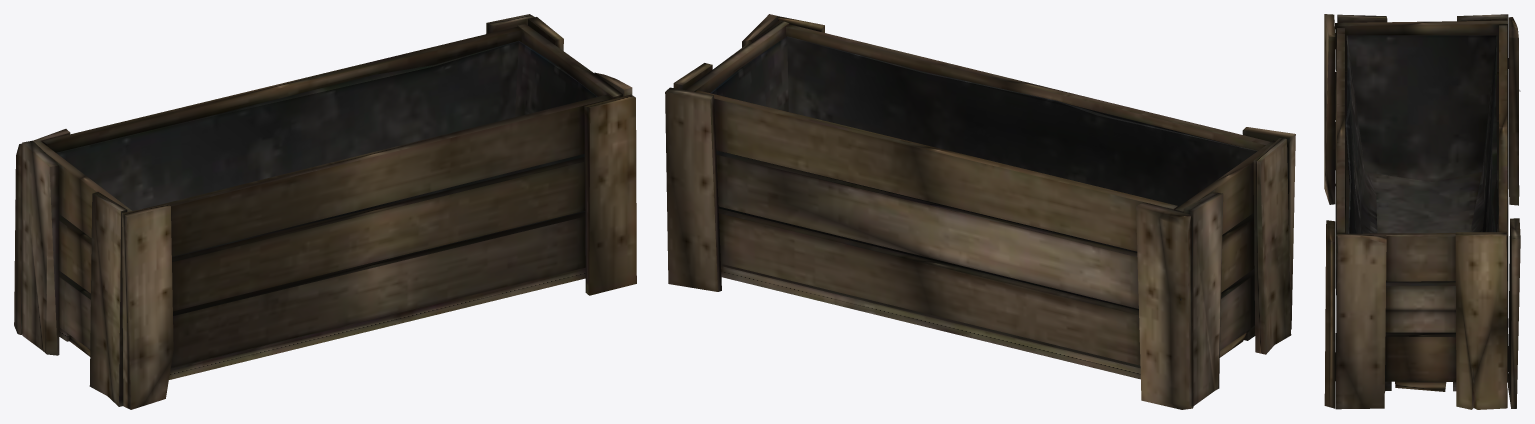
The model's file is planter_box.glb.
The picture shows the model from 3 angles, left to right: view 1: azimuth 30°, elevation 25°; view 2: azimuth 150°, elevation 25°; view 3: azimuth 270°, elevation 25°; orthographic projection. The views are drawn at different scales.
Visible parts, largest first — view 1: planter_box; view 2: planter_box; view 3: planter_box.
Boxes of the visible parts, bbox=[...] form: planter_box: bbox=[14, 14, 636, 409]; planter_box: bbox=[665, 14, 1295, 409]; planter_box: bbox=[1324, 14, 1520, 409].
Bounding box in the file's own units: 1.24 × 0.4485 × 0.4601.
Materials: 1 (1 with a texture image).
